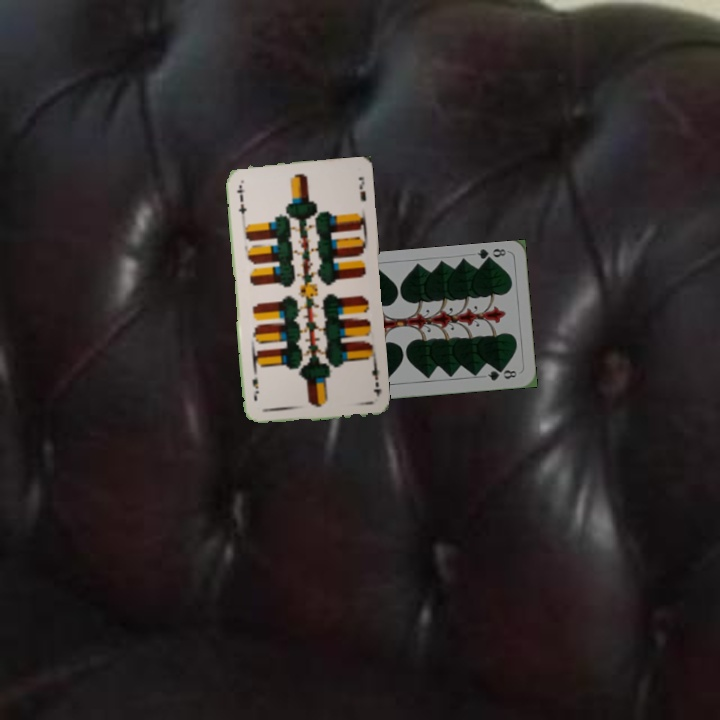E7: (368, 359, 384, 400), (233, 181, 249, 217)
G8: (473, 244, 508, 266)
